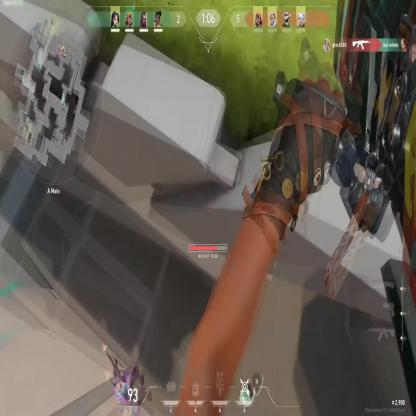enemy: (104, 351, 150, 411)
enemy_head: (114, 379, 124, 396)
